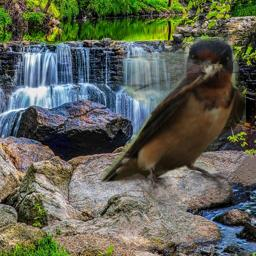Swallow: (100, 37, 246, 203)
